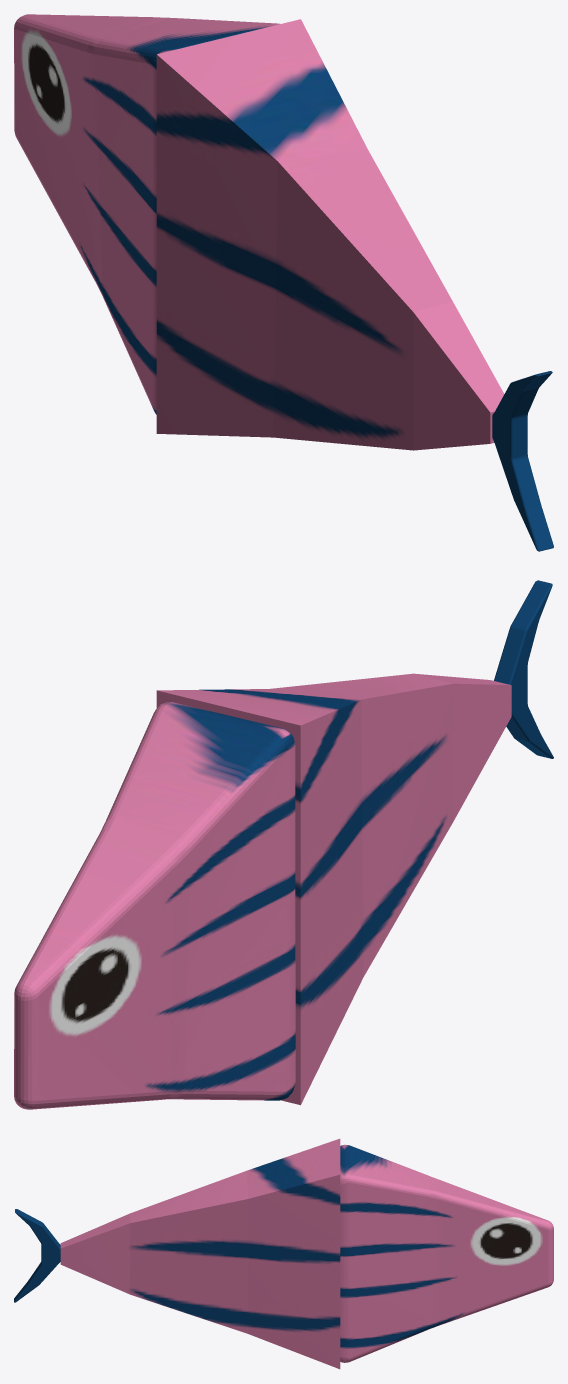
Rendered from Fish8Full.dae.
3 renders of one model, top to bottom at view 1: azimuth 30°, elevation 25°; view 2: azimuth 150°, elevation 25°; view 3: azimuth 270°, elevation 25°, orthographic. The views are drawn at different scales.
Visible parts, largest first — view 1: Cube_Cube_000, Cube_Cube_001, Cube_Cube_002; view 2: Cube_Cube_001, Cube_Cube_000, Cube_Cube_002; view 3: Cube_Cube_000, Cube_Cube_001, Cube_Cube_002.
Boxes of the visible parts, box(x1,y1,x2,y2) form: Cube_Cube_000: box(156, 19, 504, 450); Cube_Cube_001: box(14, 14, 279, 414); Cube_Cube_002: box(492, 371, 553, 551); Cube_Cube_001: box(14, 702, 295, 1109); Cube_Cube_000: box(156, 673, 511, 1105); Cube_Cube_002: box(494, 580, 553, 758); Cube_Cube_000: box(60, 1138, 340, 1369); Cube_Cube_001: box(340, 1144, 553, 1362); Cube_Cube_002: box(14, 1209, 60, 1302).
Size of the model in its own units: 0.6215 by 3.92 by 1.56.
4 materials, 4 textured.
